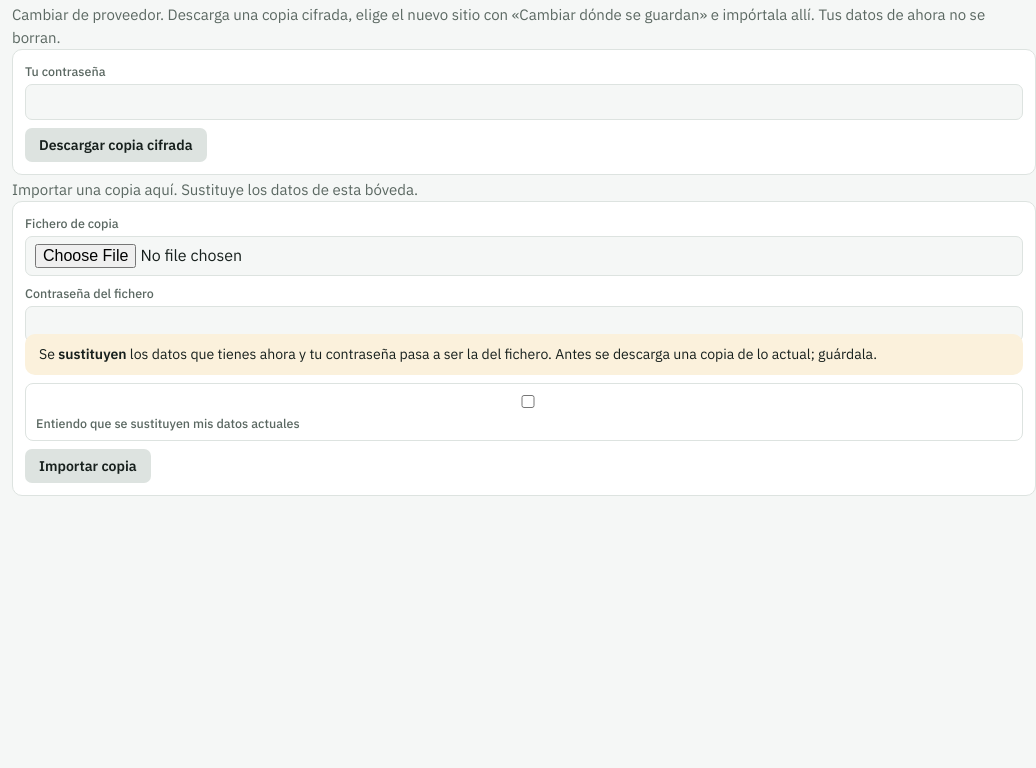
CopiaDatos › contraseña mala: no descarga nada
Type "mala-contra-1" into the password field labelled "Tu contraseña" at (524, 102), box [25, 84, 1023, 120]
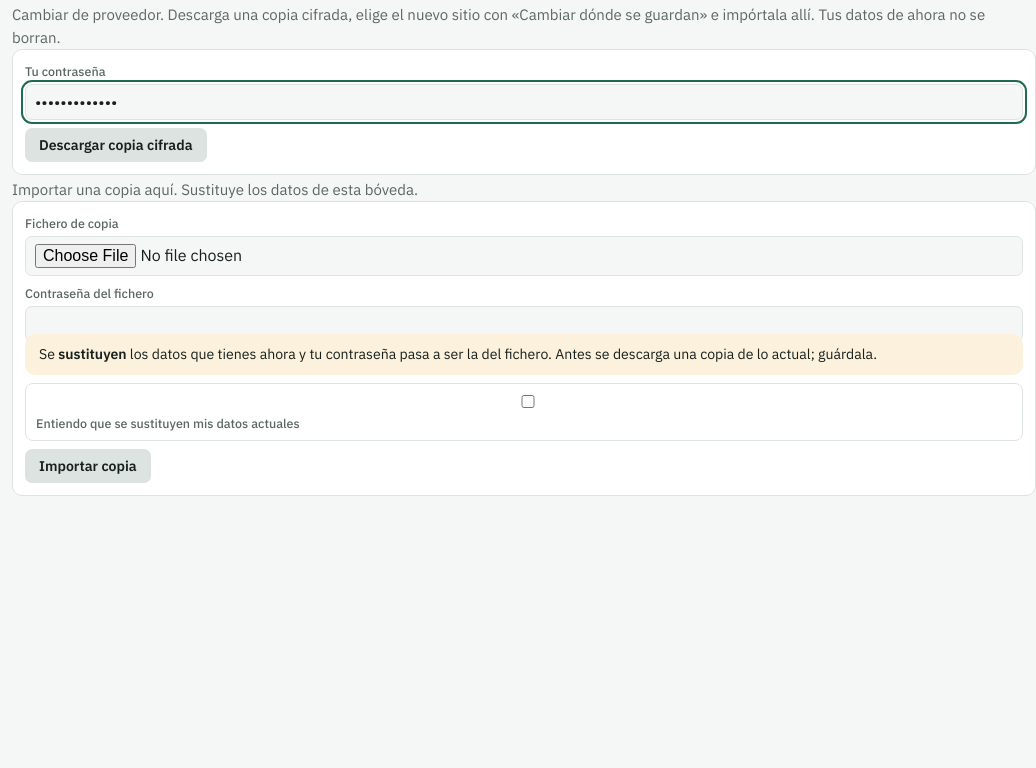
Click the button "Descargar copia cifrada" at (116, 145), box [25, 128, 206, 162]
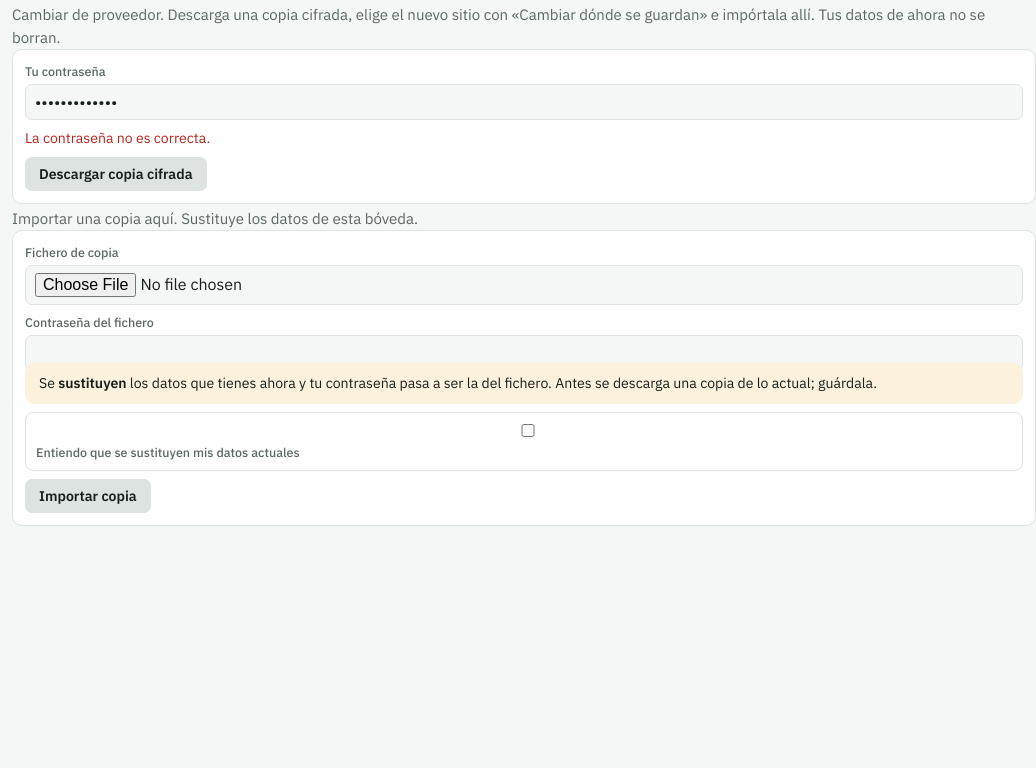
expect the message reads "La contraseña no es correcta.": met, box [25, 129, 210, 147]
